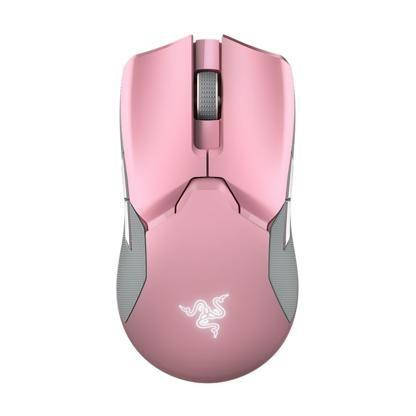not trash: (110, 32, 306, 387)
